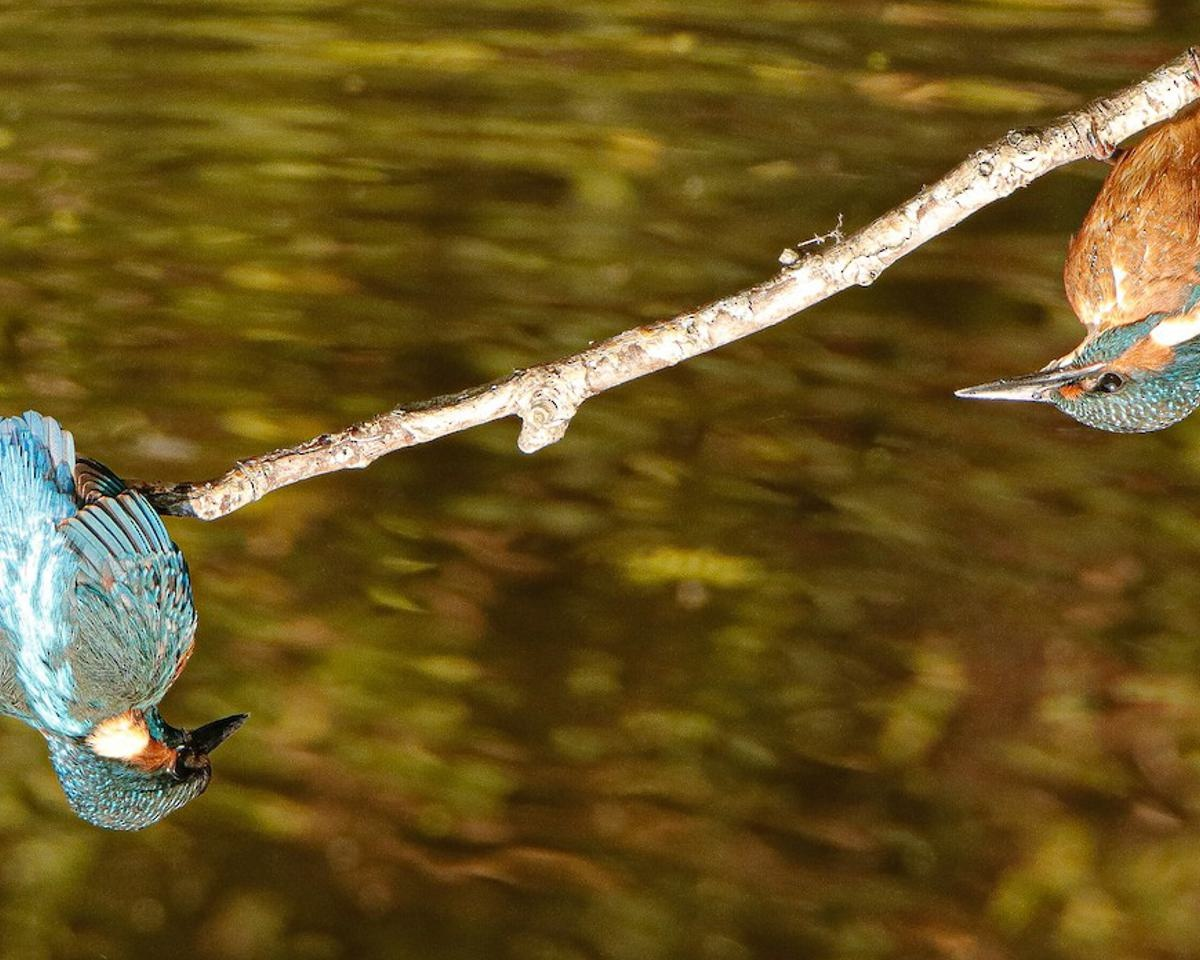kingfisher: (1, 421, 268, 850), (939, 101, 1200, 454)
